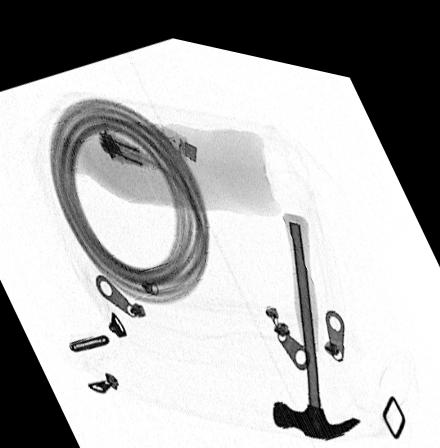Hammer: (271, 200, 361, 426)
